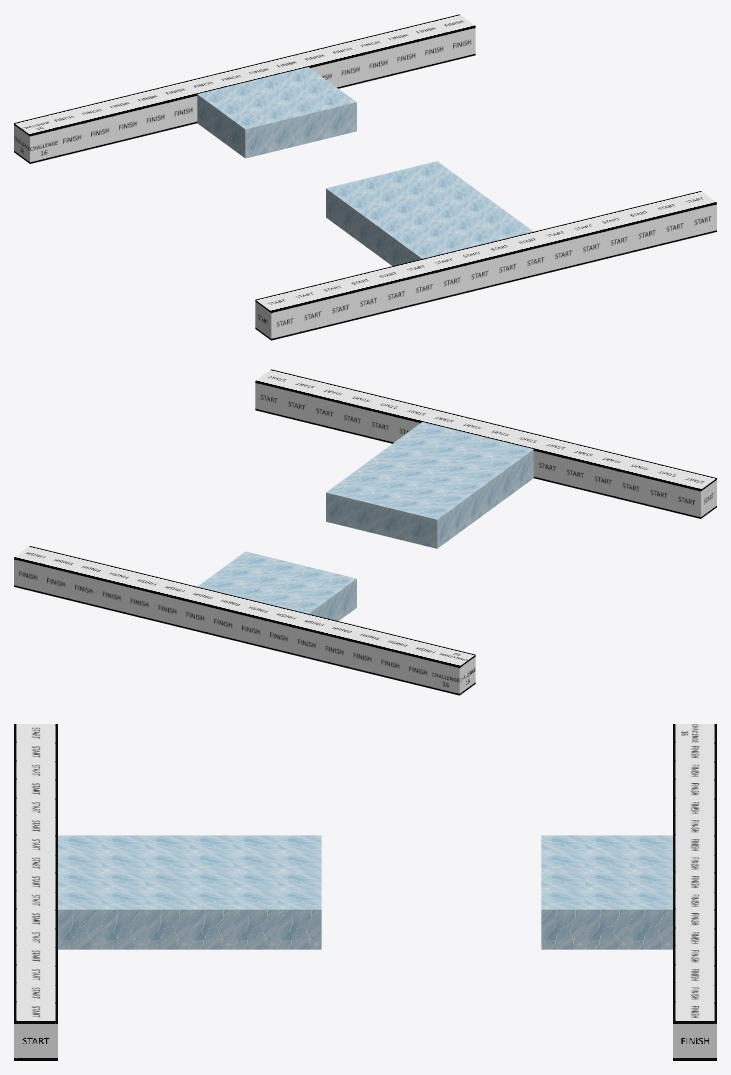
Rendered from challenge16_02.gltf.
3 views of the same model, one above another, from view 1: azimuth 30°, elevation 25°; view 2: azimuth 150°, elevation 25°; view 3: azimuth 270°, elevation 25° (orthographic). The views are drawn at different scales.
Visible parts, largest first — view 1: map; view 2: map; view 3: map.
Boxes of the visible parts, x1,y1,x2,y2 form: map: (14,14,716,340); map: (14,369,716,695); map: (14,724,716,1060).
Size of the model in its own units: 32 by 2 by 32.
4 materials, 4 textured.
